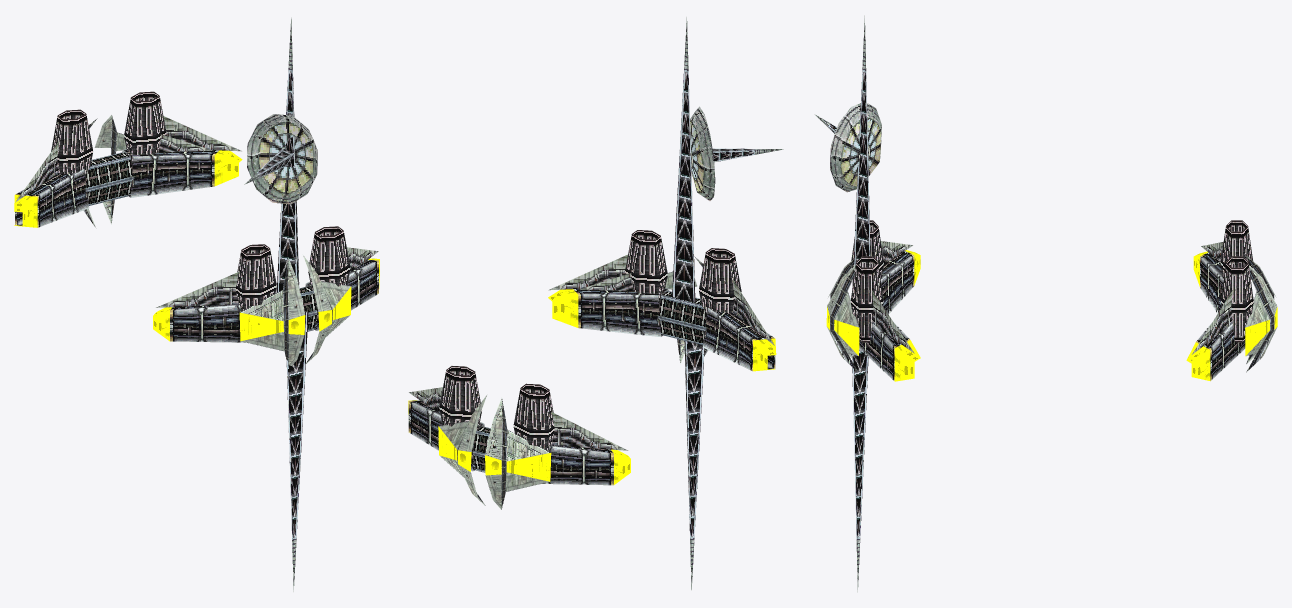
The model's file is tjumpgate_3db.gltf.
3 views of the same model, side by side, from view 1: azimuth 30°, elevation 25°; view 2: azimuth 150°, elevation 25°; view 3: azimuth 270°, elevation 25° (orthographic).
Visible parts, largest first — view 1: tjumpgate.3db; view 2: tjumpgate.3db; view 3: tjumpgate.3db.
Part boxes in pixels (x1,y1,x2,y2): tjumpgate.3db: (14, 17, 379, 591); tjumpgate.3db: (408, 17, 783, 590); tjumpgate.3db: (814, 15, 1277, 592).
Bounding box in the file's own units: 20.73 × 50.34 × 36.43.
Materials: 3 (3 with a texture image).
